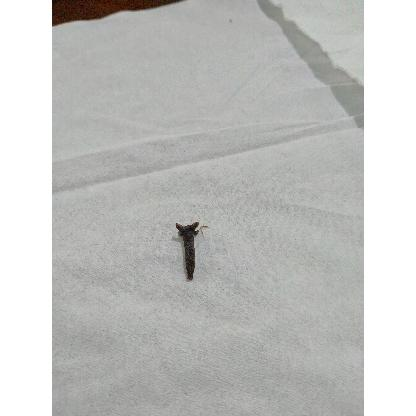buruk: (175, 219, 201, 281)
